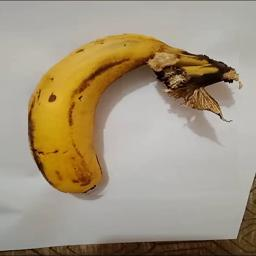Banana Semifresh: (29, 30, 241, 198)
